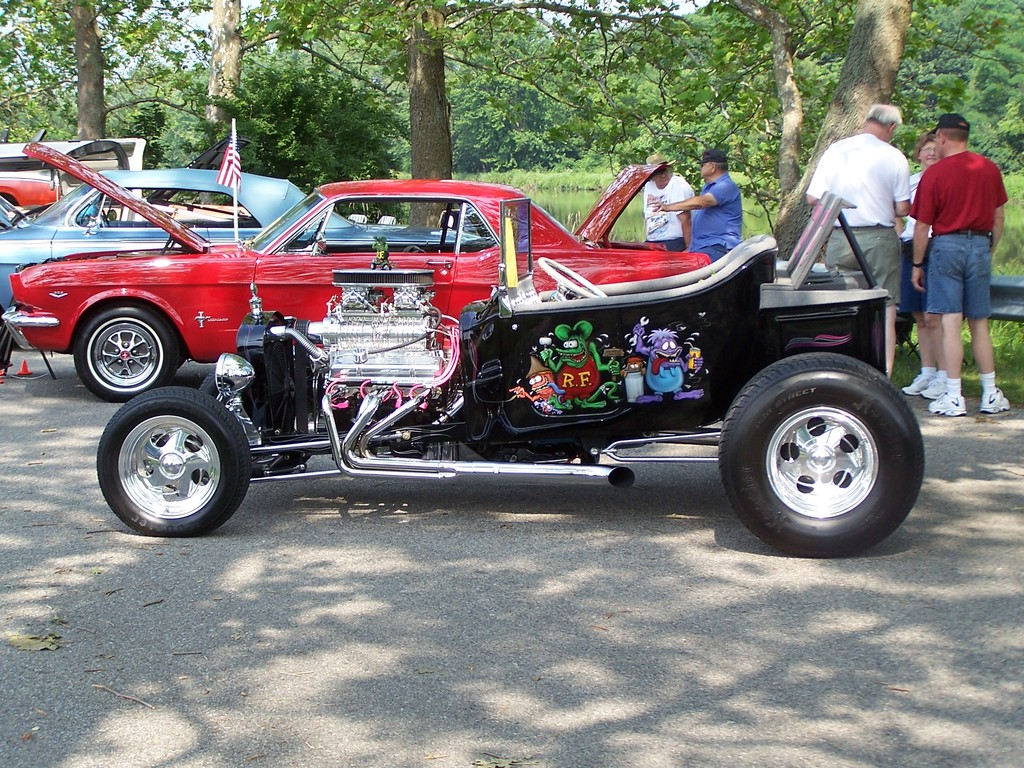Car: (0, 128, 927, 555)
